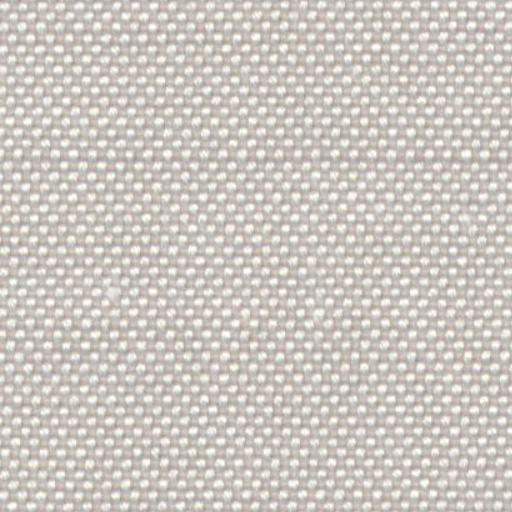TuoSha: (17, 122, 494, 190)
